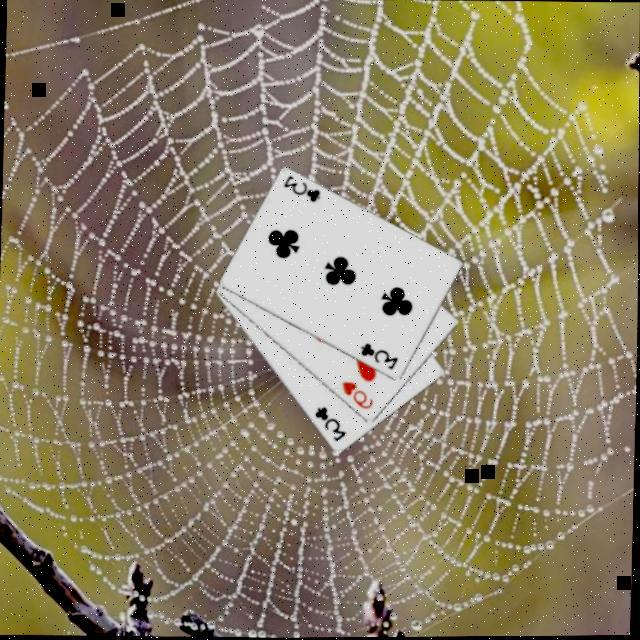3C: (312, 402, 351, 443), (358, 338, 403, 372), (281, 170, 325, 204)
6H: (338, 376, 378, 410)
